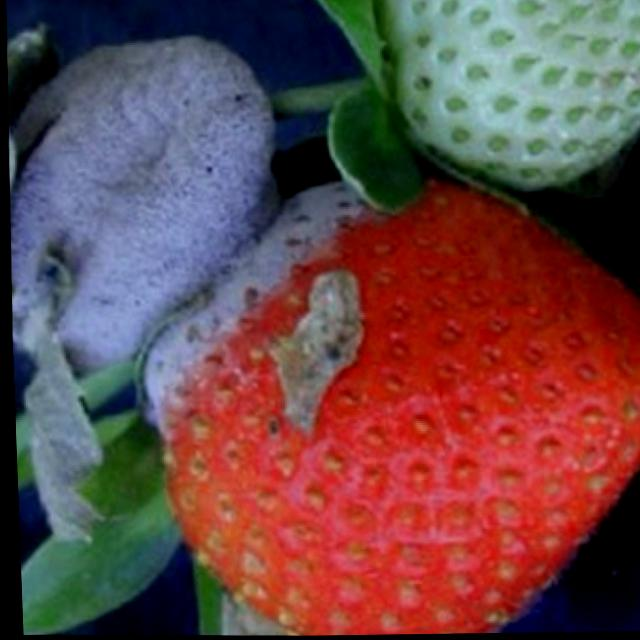Gray Mold: (6, 13, 281, 542), (133, 177, 383, 483)
